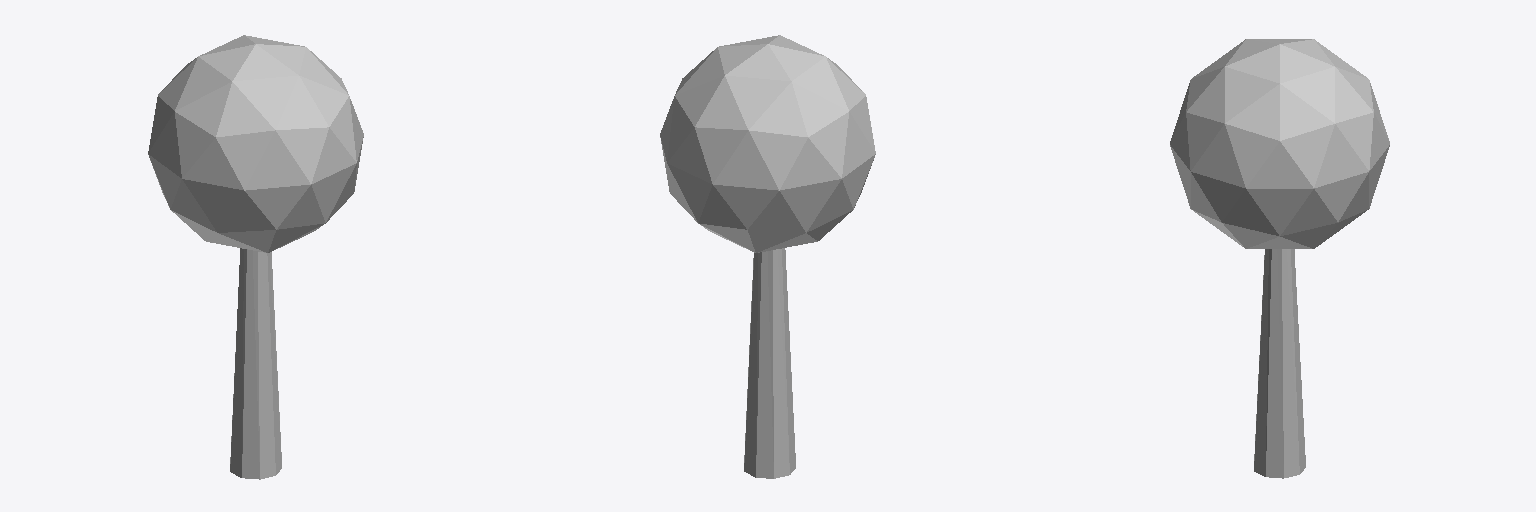
File: arvore1.obj
3 renders of one model, left to right at view 1: azimuth 30°, elevation 25°; view 2: azimuth 150°, elevation 25°; view 3: azimuth 270°, elevation 25°, orthographic.
Visible parts, largest first — view 1: Icosphere_Icosphere.001, Cylinder; view 2: Icosphere_Icosphere.001, Cylinder; view 3: Icosphere_Icosphere.001, Cylinder.
Part boxes in pixels (x1,y1,x2,y2): Icosphere_Icosphere.001: (148,35,363,252); Cylinder: (230,248,281,479); Icosphere_Icosphere.001: (660,35,875,252); Cylinder: (744,248,795,478); Icosphere_Icosphere.001: (1170,39,1389,248); Cylinder: (1254,249,1305,478).
Bounding box in the file's own units: 3.09 × 6.88 × 3.25.